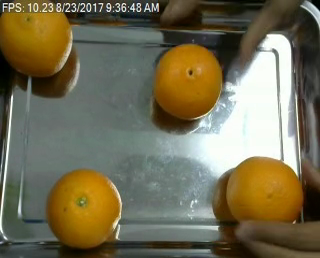Orange: (46, 169, 121, 247), (153, 43, 223, 120), (224, 155, 303, 223), (1, 13, 73, 77)
